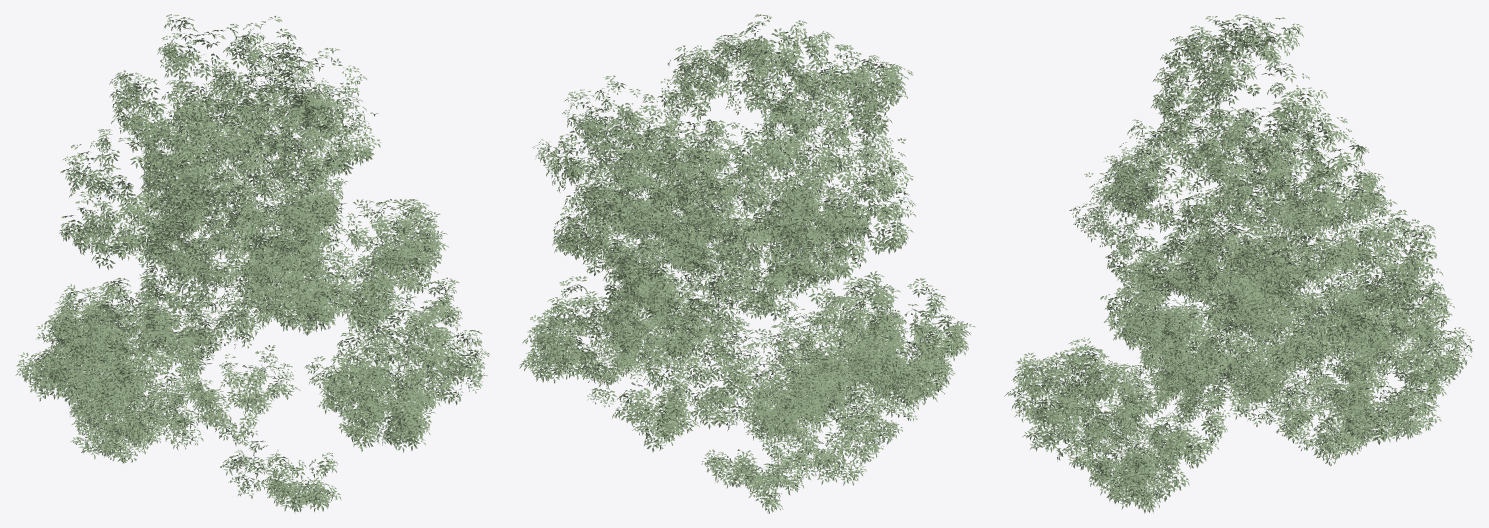
File: lujiazui-9.glb
3 renders of one model, left to right at view 1: azimuth 30°, elevation 25°; view 2: azimuth 150°, elevation 25°; view 3: azimuth 270°, elevation 25°, orthographic.
Parts seen in each view (by area): view 1: source_4861_leaf_part1, source_4861_leaf_part0, source_4861_leaf_part3, source_4861_leaf_part2, source_4861_leaf_part4; view 2: source_4861_leaf_part1, source_4861_leaf_part0, source_4861_leaf_part3, source_4861_leaf_part2, source_4861_leaf_part4; view 3: source_4861_leaf_part0, source_4861_leaf_part1, source_4861_leaf_part3, source_4861_leaf_part2, source_4861_leaf_part4.
Part boxes in pixels (bbox=[...]): source_4861_leaf_part1: bbox=[57, 14, 484, 512]; source_4861_leaf_part0: bbox=[22, 90, 489, 513]; source_4861_leaf_part3: bbox=[47, 19, 460, 511]; source_4861_leaf_part2: bbox=[19, 48, 441, 440]; source_4861_leaf_part4: bbox=[15, 169, 487, 439]; source_4861_leaf_part1: bbox=[532, 14, 915, 501]; source_4861_leaf_part0: bbox=[519, 125, 968, 513]; source_4861_leaf_part3: bbox=[573, 16, 914, 512]; source_4861_leaf_part2: bbox=[526, 71, 963, 448]; source_4861_leaf_part4: bbox=[522, 126, 975, 445]; source_4861_leaf_part0: bbox=[1004, 161, 1472, 513]; source_4861_leaf_part1: bbox=[1014, 14, 1401, 513]; source_4861_leaf_part3: bbox=[1011, 16, 1390, 509]; source_4861_leaf_part2: bbox=[1075, 91, 1474, 441]; source_4861_leaf_part4: bbox=[1015, 224, 1466, 455].
Size of the model in its own units: 7.69 by 8.39 by 7.79.
